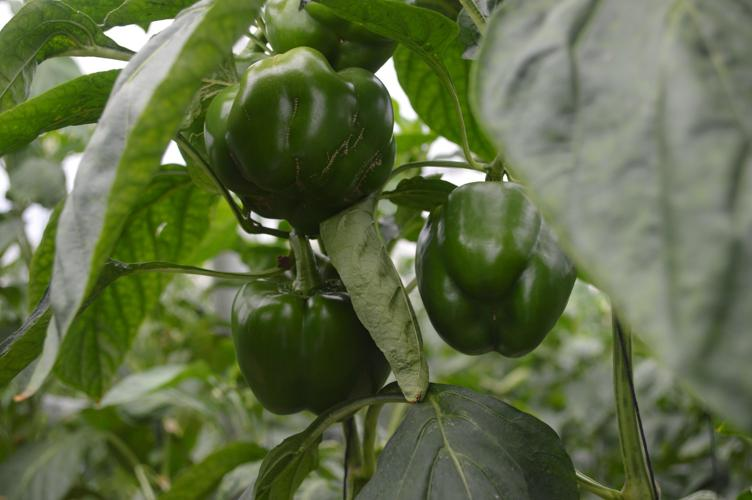BellPepper: (194, 47, 395, 226), (411, 182, 562, 354), (226, 264, 388, 412)
